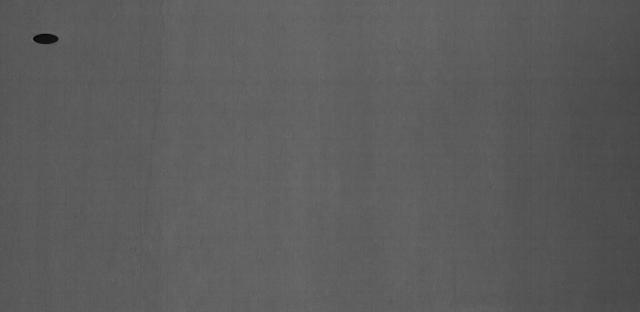punching_hole: (28, 30, 61, 46)
